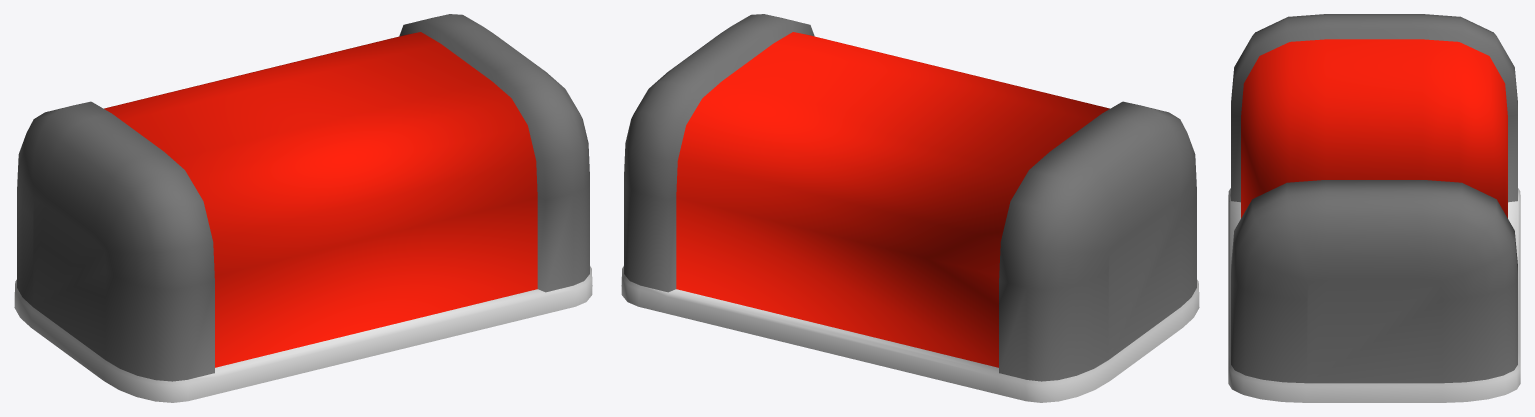
The model's file is KeysGlissandoNote.fbx.
3 renders of one model, left to right at view 1: azimuth 30°, elevation 25°; view 2: azimuth 150°, elevation 25°; view 3: azimuth 270°, elevation 25°, orthographic. The views are drawn at different scales.
Parts seen in each view (by area): view 1: Cube.101; view 2: Cube.101; view 3: Cube.101.
Boxes of the visible parts, bbox=[...] form: Cube.101: bbox=[14, 14, 592, 402]; Cube.101: bbox=[621, 14, 1199, 402]; Cube.101: bbox=[1228, 14, 1520, 402].
Size of the model in its own units: 23.52 by 9.73 by 13.51.
